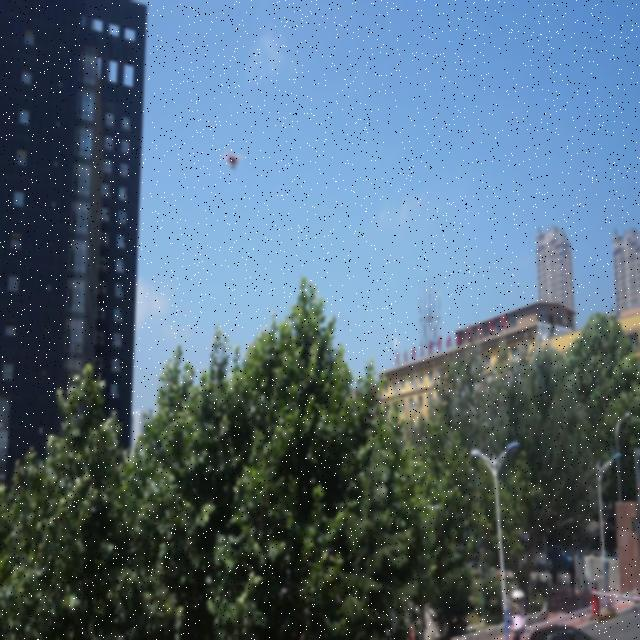UAV: (221, 150, 244, 172)
